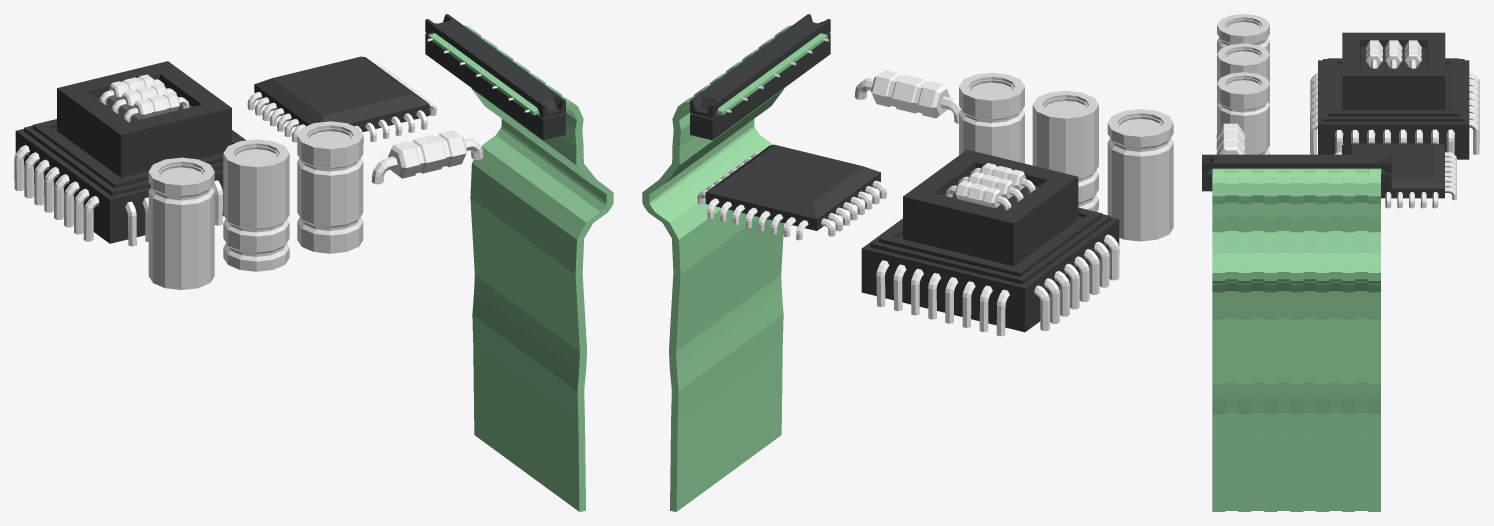
Rendered from platform_assets.glb.
The picture shows the model from 3 angles, left to right: view 1: azimuth 30°, elevation 25°; view 2: azimuth 150°, elevation 25°; view 3: azimuth 270°, elevation 25°; orthographic projection. The views are drawn at different scales.
Visible parts, largest first — view 1: Cable, resistor1, block, Capacitor3, Capacitor1, Capacitor2, Resistor; view 2: Cable, resistor1, block, Capacitor3, Capacitor2, Capacitor1, Resistor; view 3: Cable, resistor1, block, Capacitor1, Capacitor2, Capacitor3, Resistor.
Boxes of the visible parts, x1,y1,x2,y2 form: Cable: (425, 14, 613, 511); resistor1: (14, 61, 245, 246); block: (247, 56, 436, 144); Capacitor3: (148, 157, 214, 289); Capacitor1: (297, 121, 363, 253); Capacitor2: (223, 139, 289, 271); Resistor: (371, 130, 483, 184); Cable: (642, 14, 830, 511); resistor1: (861, 149, 1119, 336); block: (697, 144, 886, 240); Capacitor3: (1107, 109, 1173, 241); Capacitor2: (1032, 90, 1098, 211); Capacitor1: (959, 72, 1024, 163); Resistor: (854, 70, 961, 123); Cable: (1202, 154, 1391, 511); resistor1: (1310, 32, 1479, 159); block: (1334, 143, 1456, 208); Capacitor1: (1217, 72, 1269, 154); Capacitor2: (1217, 43, 1269, 103); Capacitor3: (1217, 14, 1269, 53); Resistor: (1216, 123, 1244, 154).
Size of the model in its own units: 7.04 by 6.3 by 4.69.
